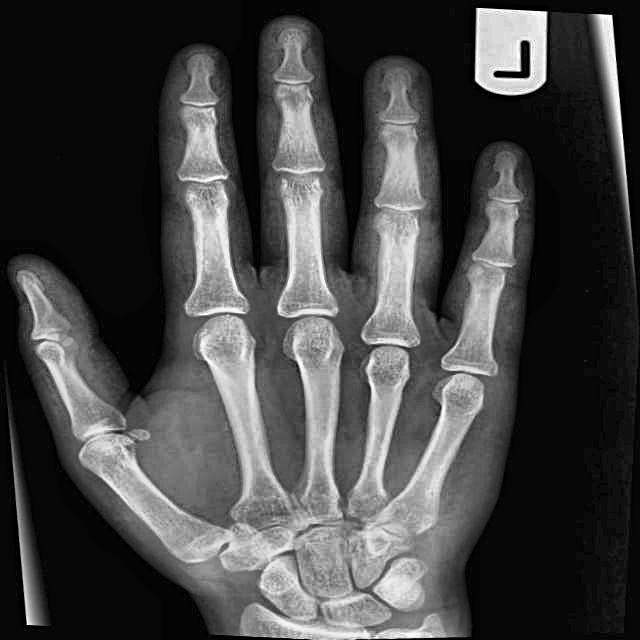Healthy: (84, 115, 519, 579)
